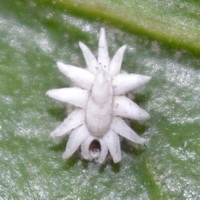insect: (46, 27, 150, 163)
